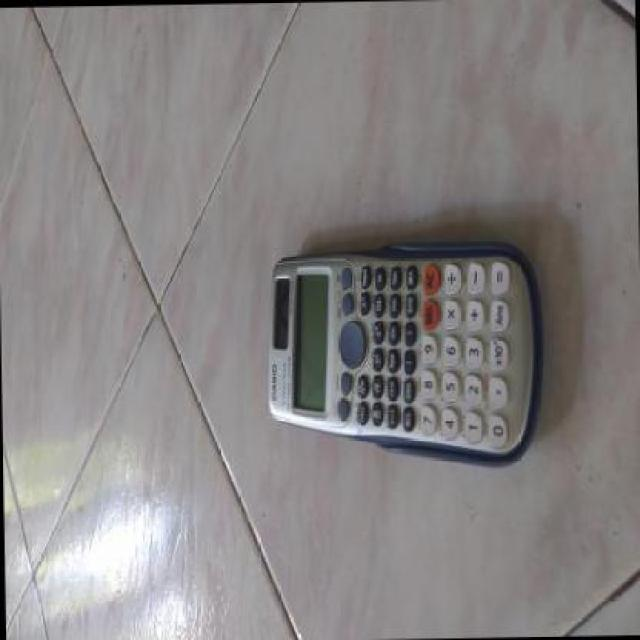Calculator: (251, 212, 554, 472)
